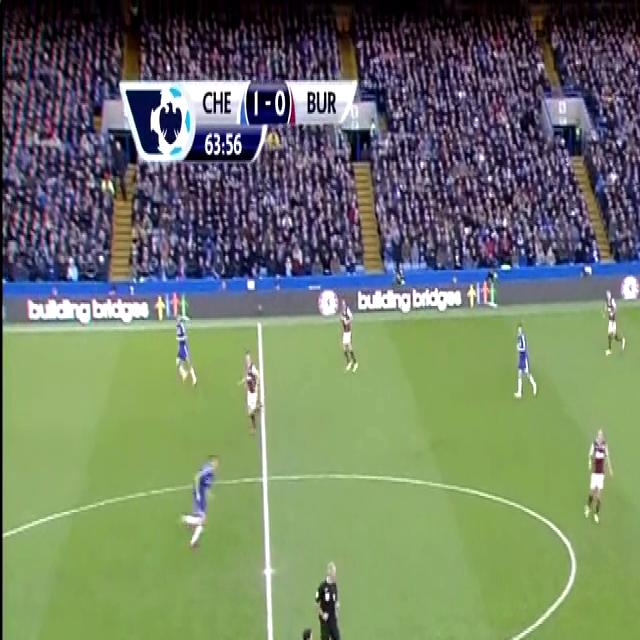referee: (307, 546, 350, 640)
soccer-player: (172, 438, 218, 552), (580, 418, 616, 532), (507, 312, 540, 406), (237, 345, 266, 439), (173, 300, 202, 391), (602, 282, 628, 364), (338, 291, 362, 378), (280, 624, 320, 640)
